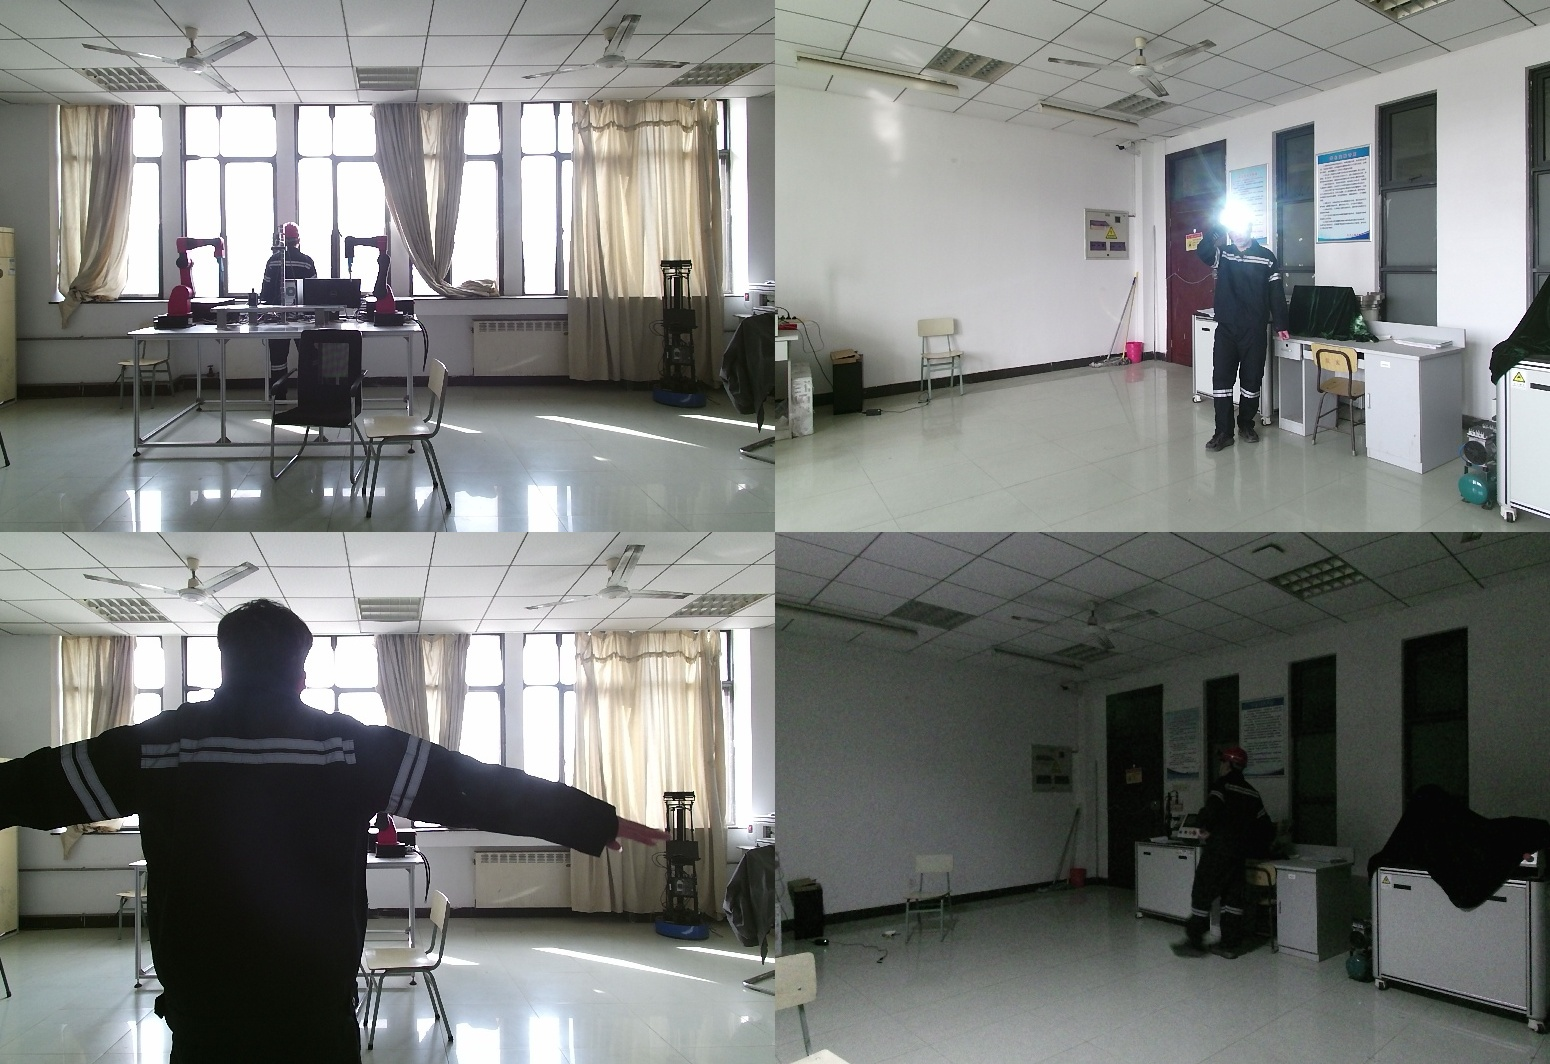person: (1, 601, 672, 1064), (1197, 205, 1297, 451), (1195, 746, 1274, 960), (262, 226, 326, 407)
